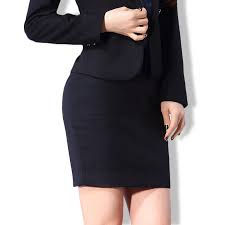F_tailored skirt: (55, 66, 179, 191)
